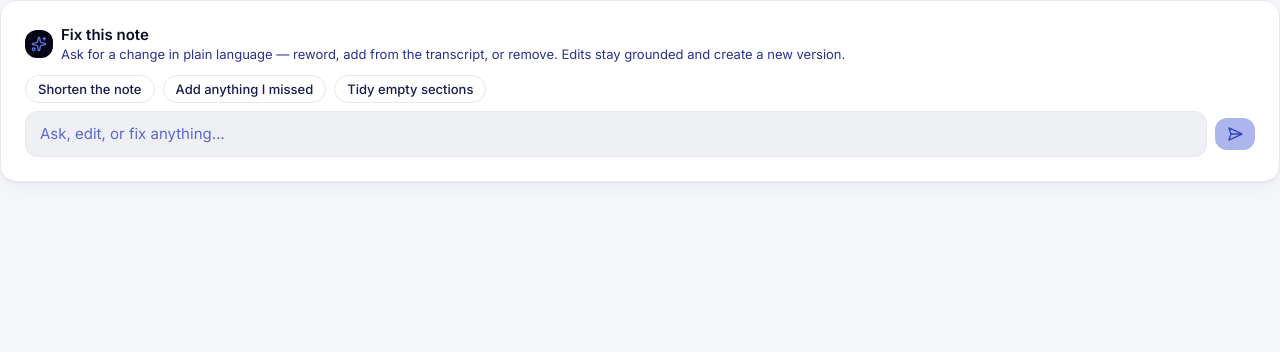
Scenario: NoteAssistChat (fix this note) › enables send only with input, and clears the input after a send
The width and height of the screenshot is (1280, 352).
Expected: the button named "Send" is disabled, [1215, 118, 1255, 150]
Step 1. Type "shorten" into the field with placeholder "Ask, edit, or fix anything…" → (616, 134), box [25, 111, 1207, 157]
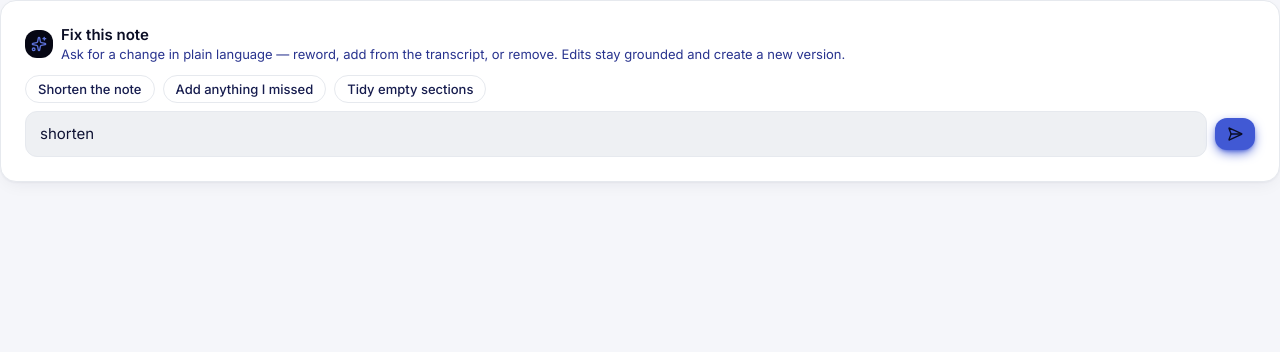
Expected: the button named "Send" is enabled
Step 2. Click the button named "Send" → (1235, 134), box [1215, 118, 1255, 150]
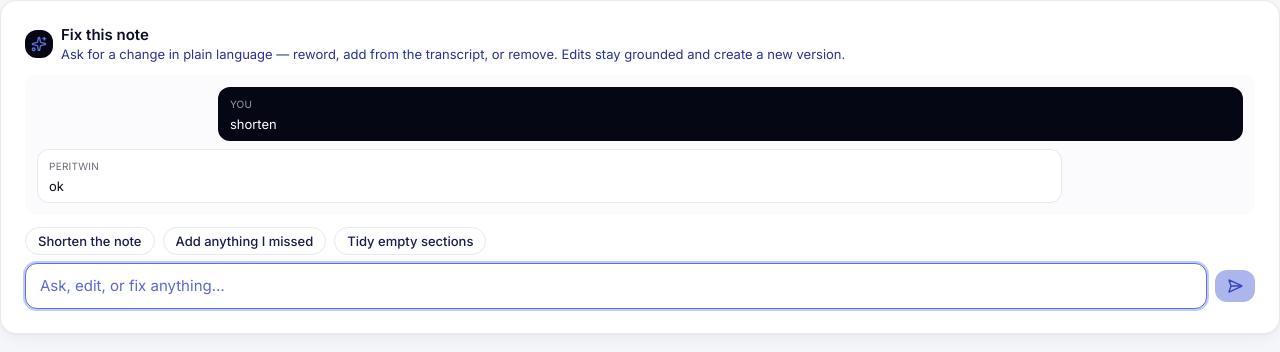
Expected: the field with placeholder "Ask, edit, or fix anything…" is empty, [25, 263, 1207, 309]
